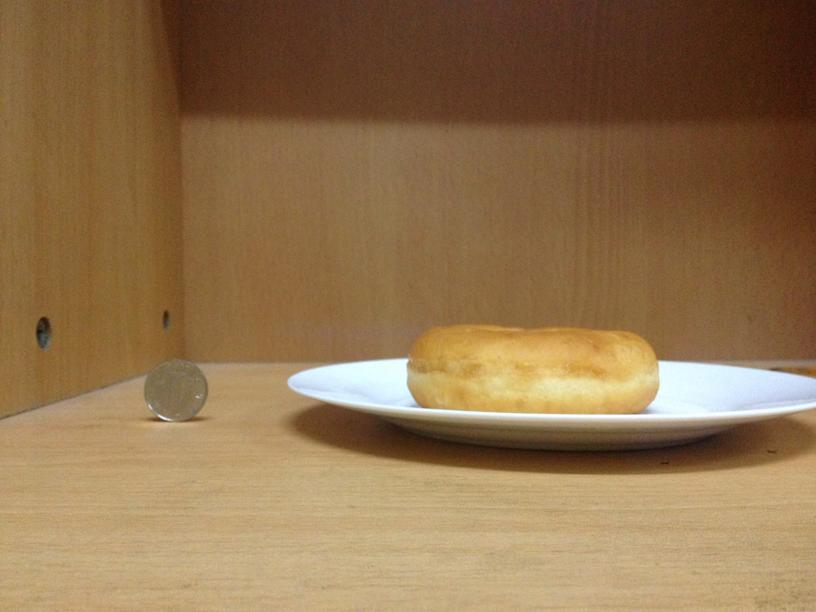coin: (136, 358, 225, 420)
doughnut: (405, 323, 657, 413)
